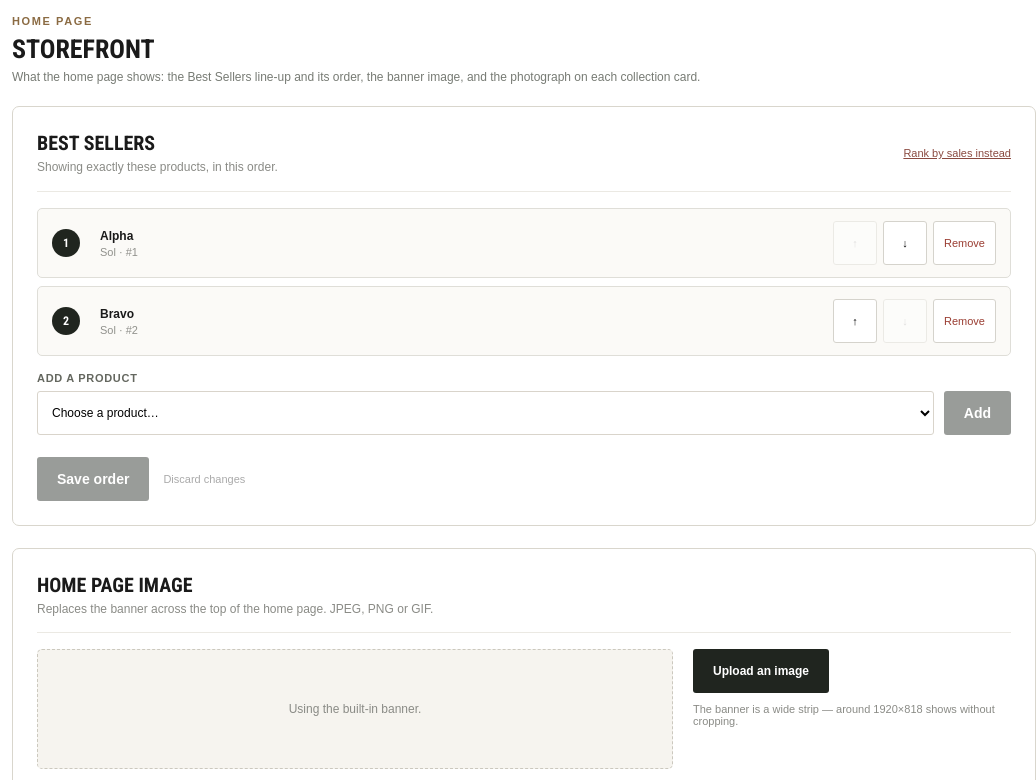
Test: nothing is written until Save, so a half-arranged order never reaches the storefront
Check: the button "Save order" is disabled, box [37,457,149,501]
Click the button named "Move Alpha down to position 2".
click(905, 243)  # box [883,221,927,265]
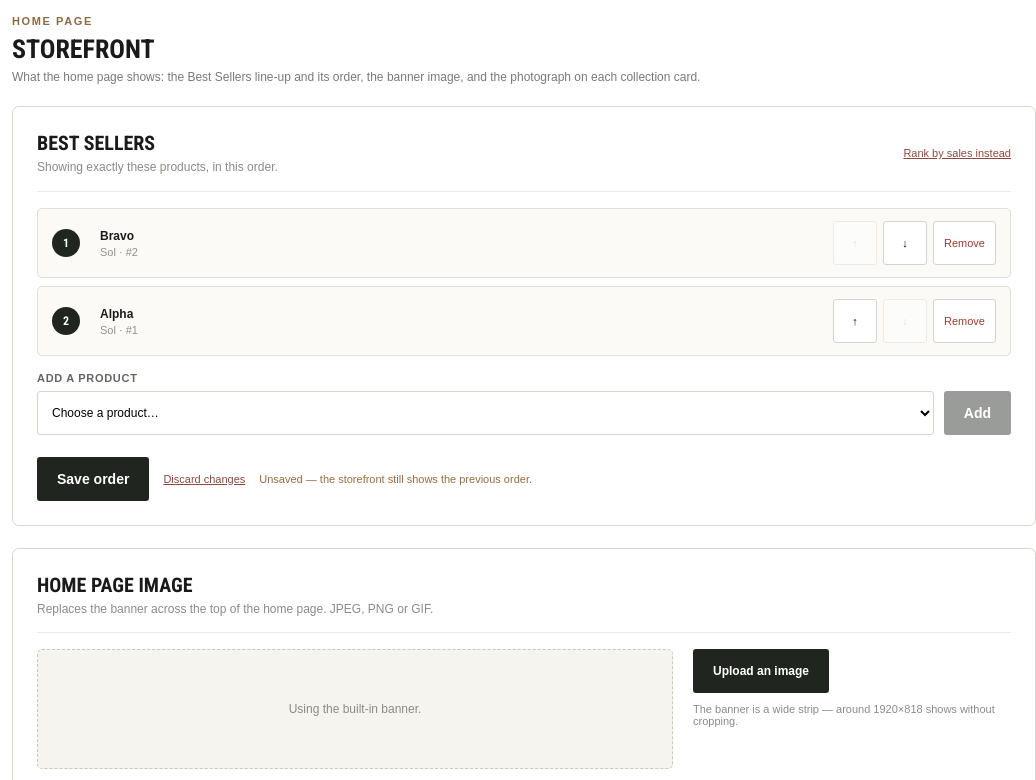
Check: the button "Save order" is enabled, box [37,457,149,501]
Check: the text "Unsaved — the storefront still shows the previous order." is shown, box [259,473,532,485]
